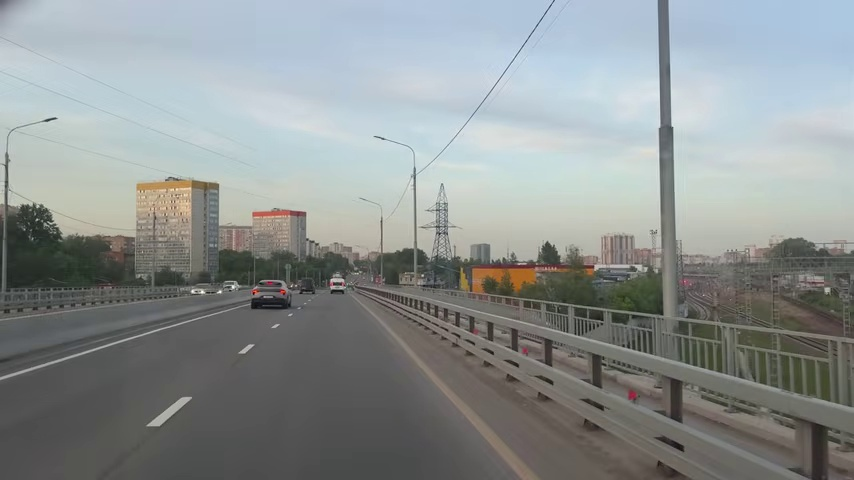apagada: (40, 114, 59, 127), (372, 132, 388, 146)
